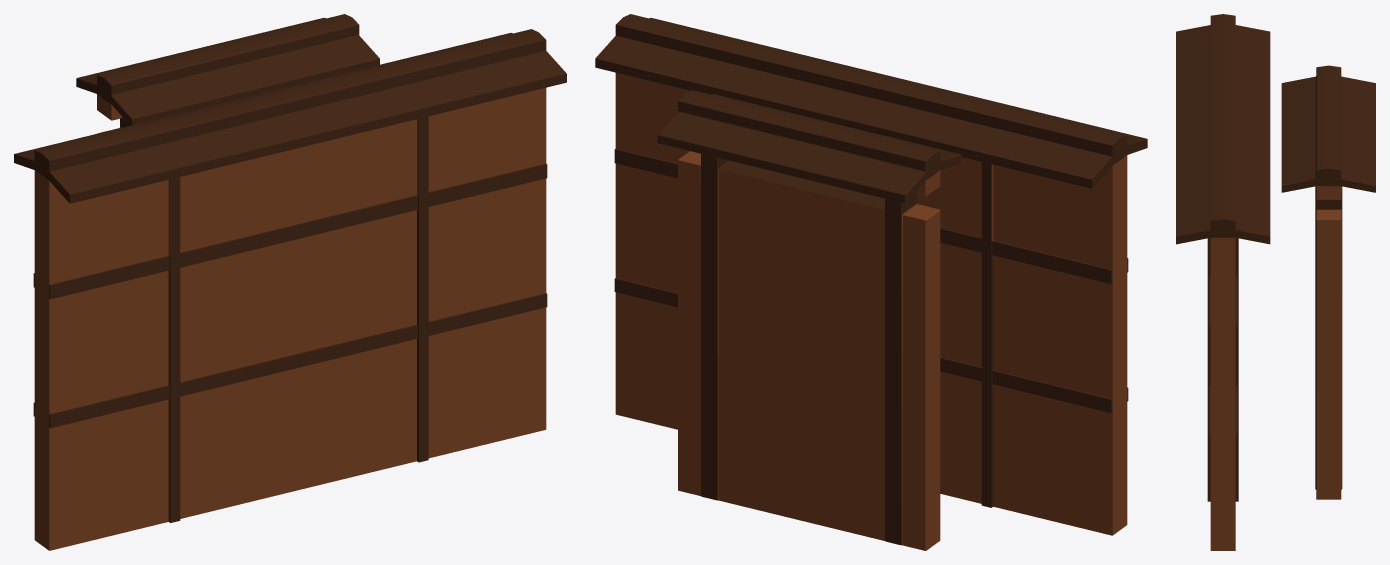
The model's file is MurosMadeira.fbx.
3 renders of one model, left to right at view 1: azimuth 30°, elevation 25°; view 2: azimuth 150°, elevation 25°; view 3: azimuth 270°, elevation 25°, orthographic. The views are drawn at different scales.
Parts seen in each view (by area): view 1: Muro_4x3, Muro_2x3; view 2: Muro_4x3, Muro_2x3; view 3: Muro_4x3, Muro_2x3.
Part boxes in pixels (<box>): Muro_4x3: <box>14,29,566,550</box>; Muro_2x3: <box>76,14,379,133</box>; Muro_4x3: <box>595,14,1147,535</box>; Muro_2x3: <box>657,90,960,550</box>; Muro_4x3: <box>1176,14,1270,550</box>; Muro_2x3: <box>1281,65,1375,499</box>.
Size of the model in its own units: 400 by 302 by 165.
